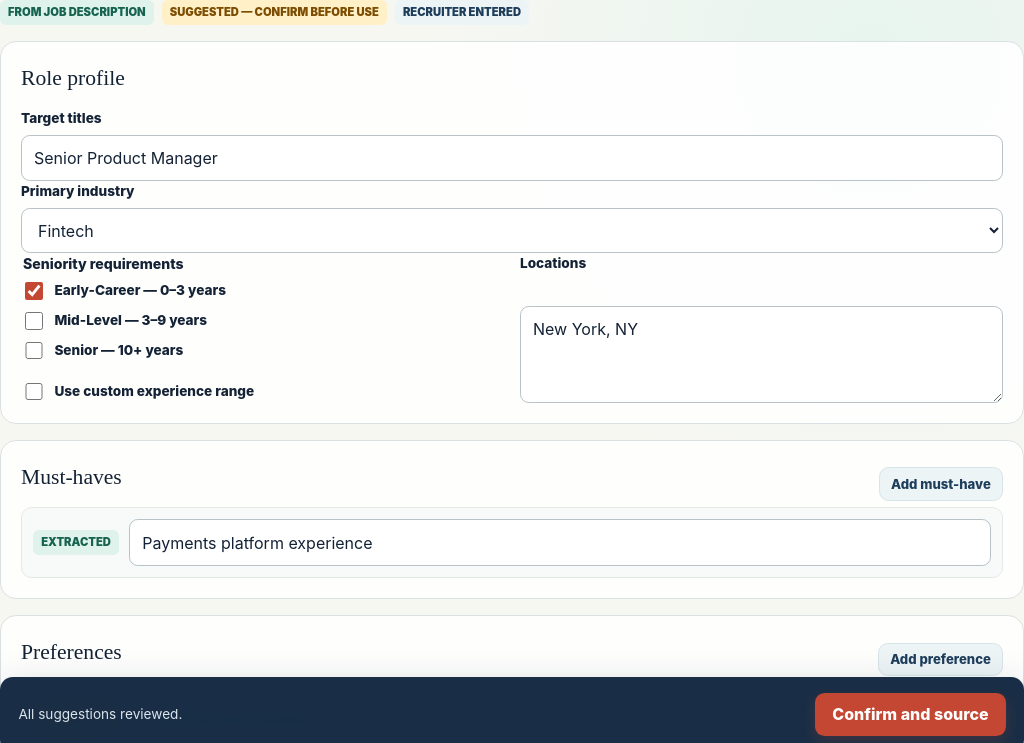
Test case: ScorecardEditor › requires a bound and makes a custom range visibly override stored presets
Click the checkbox labelled "Use custom experience range" at (34, 391), box [25, 383, 43, 400]
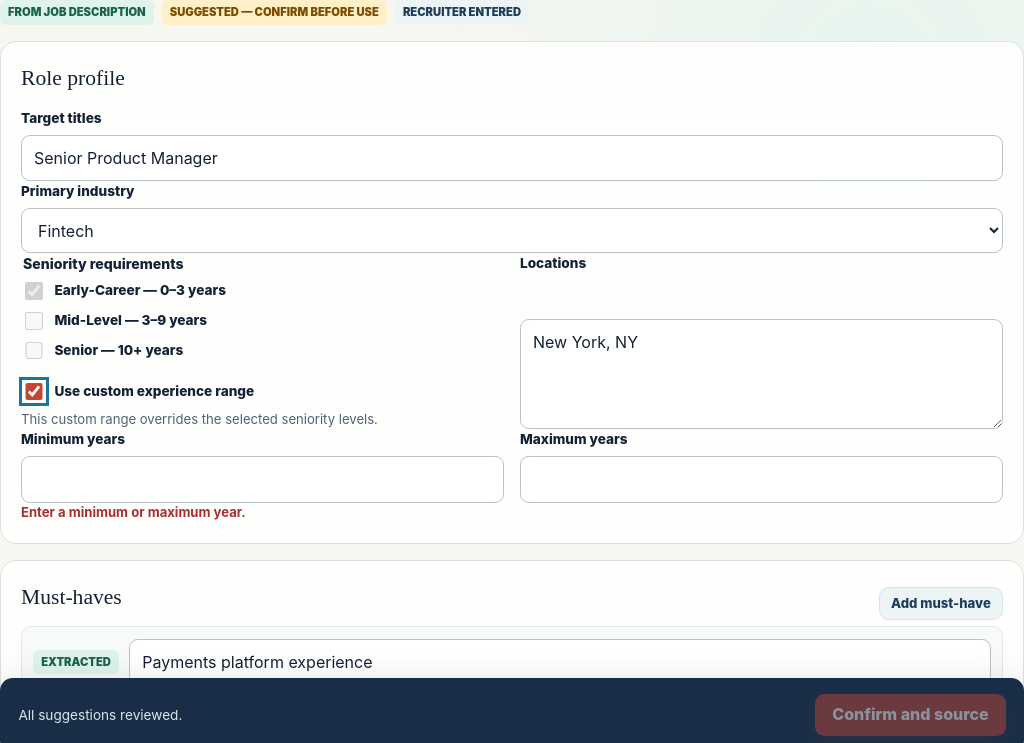
Now the message "This custom range overrides the selected seniority levels." is shown, box [21, 411, 378, 427]
Now the checkbox labelled "Early-Career — 0–3 years" is disabled, box [25, 282, 43, 300]
Now the button "Confirm and source" is disabled, box [815, 694, 1006, 736]
Type "5" into the number field labelled "Minimum years" at (262, 479), box [21, 456, 504, 503]
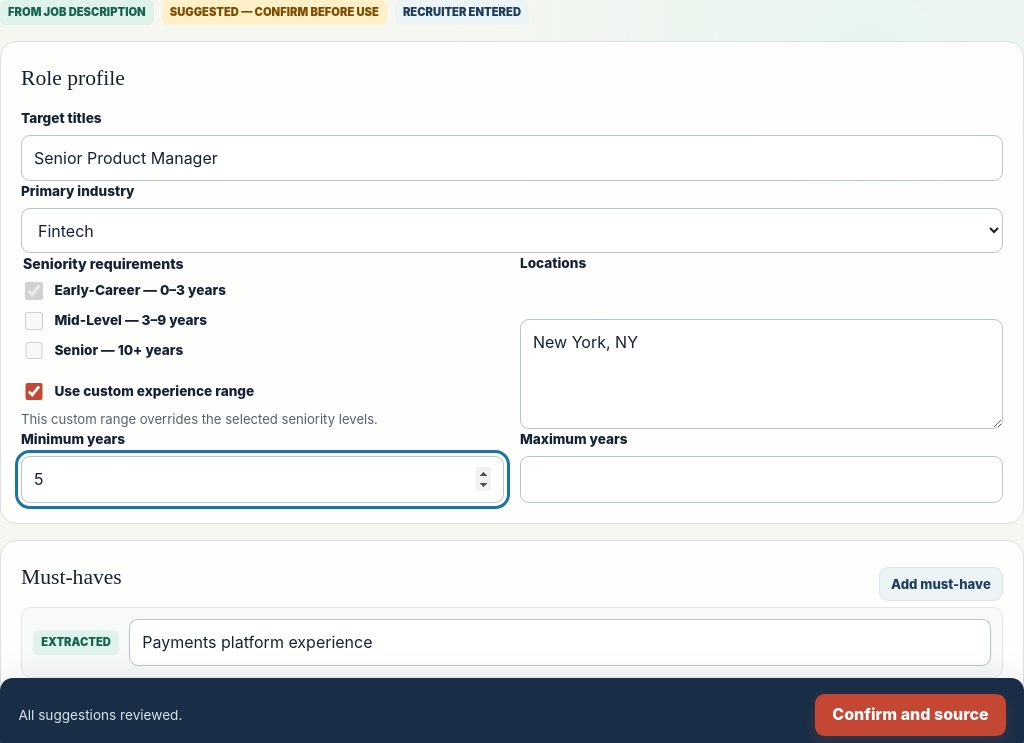
Now the button "Confirm and source" is enabled, box [815, 694, 1006, 736]
